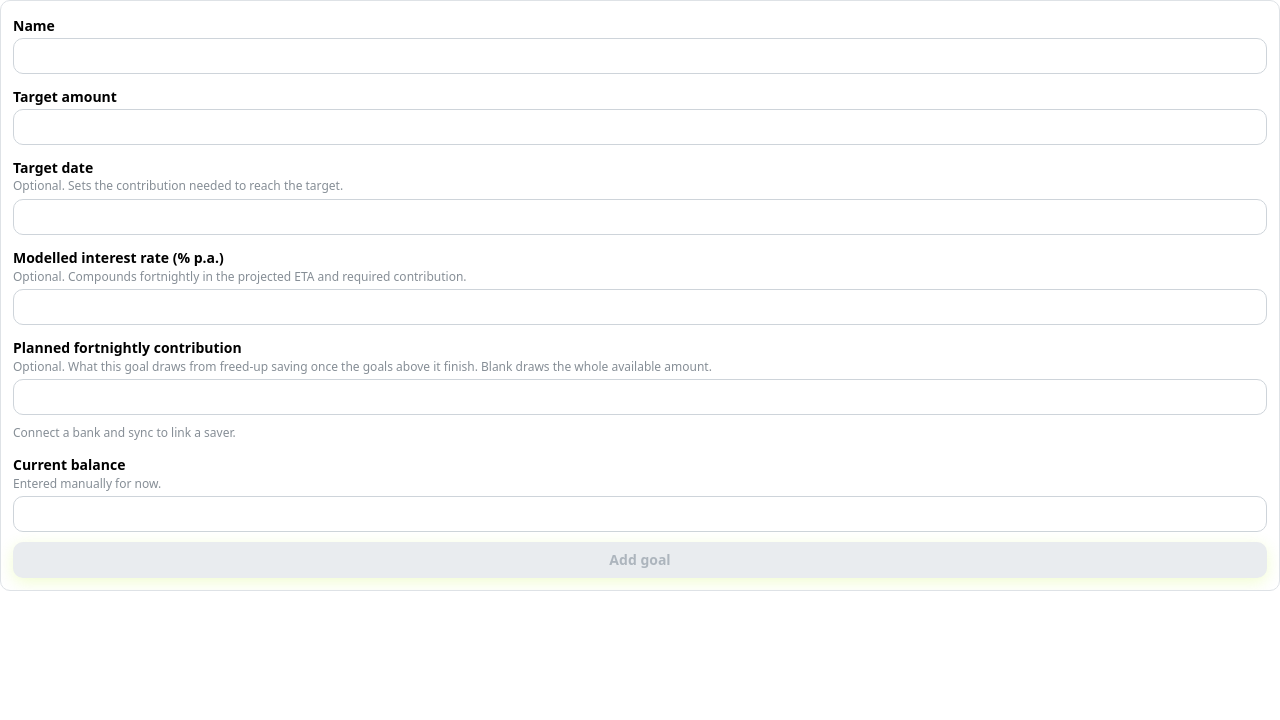
Test: GoalForm › disables submit until name and target amount are filled
This screenshot has width=1280, height=720.
Expected: the button "Add goal" is disabled, [13,542,1267,578]
Step 1. Type "Car" into the field labelled "Name" → (640, 56), box [13,38,1267,74]
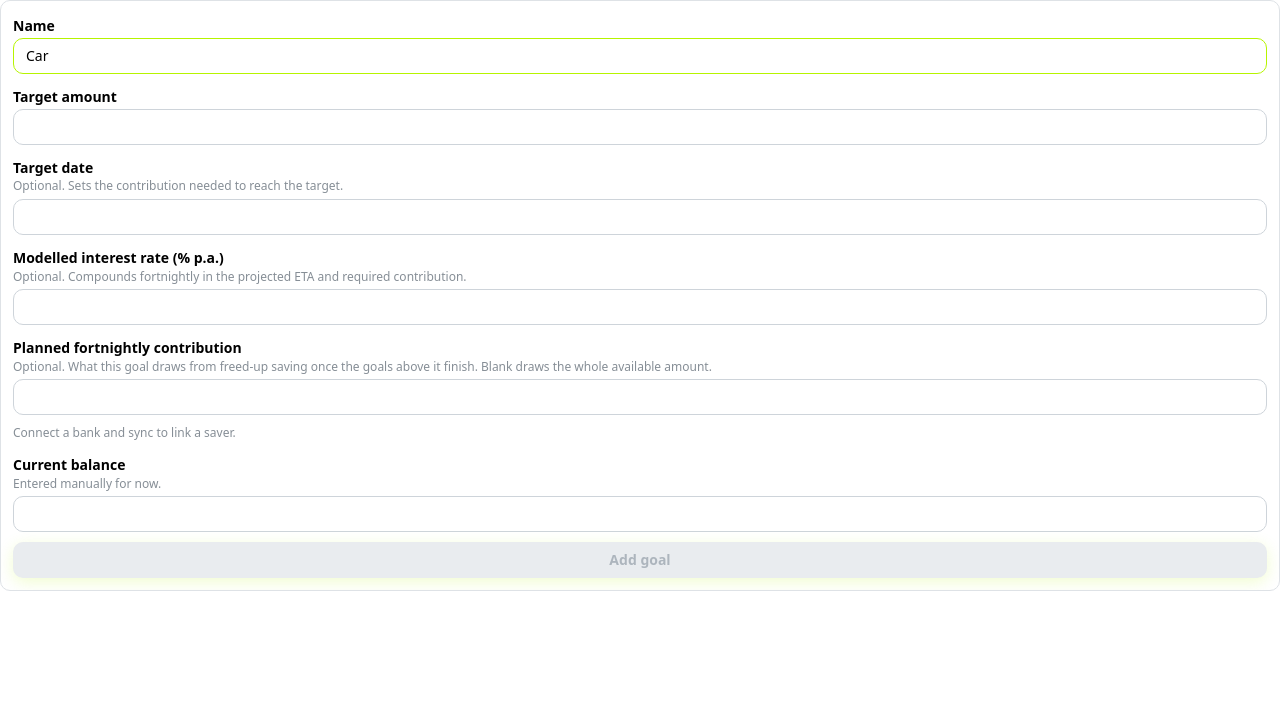
Expected: the button "Add goal" is disabled, [13,542,1267,578]
Step 2. Type "30000" into the field labelled "Target amount" → (640, 127), box [13,109,1267,145]
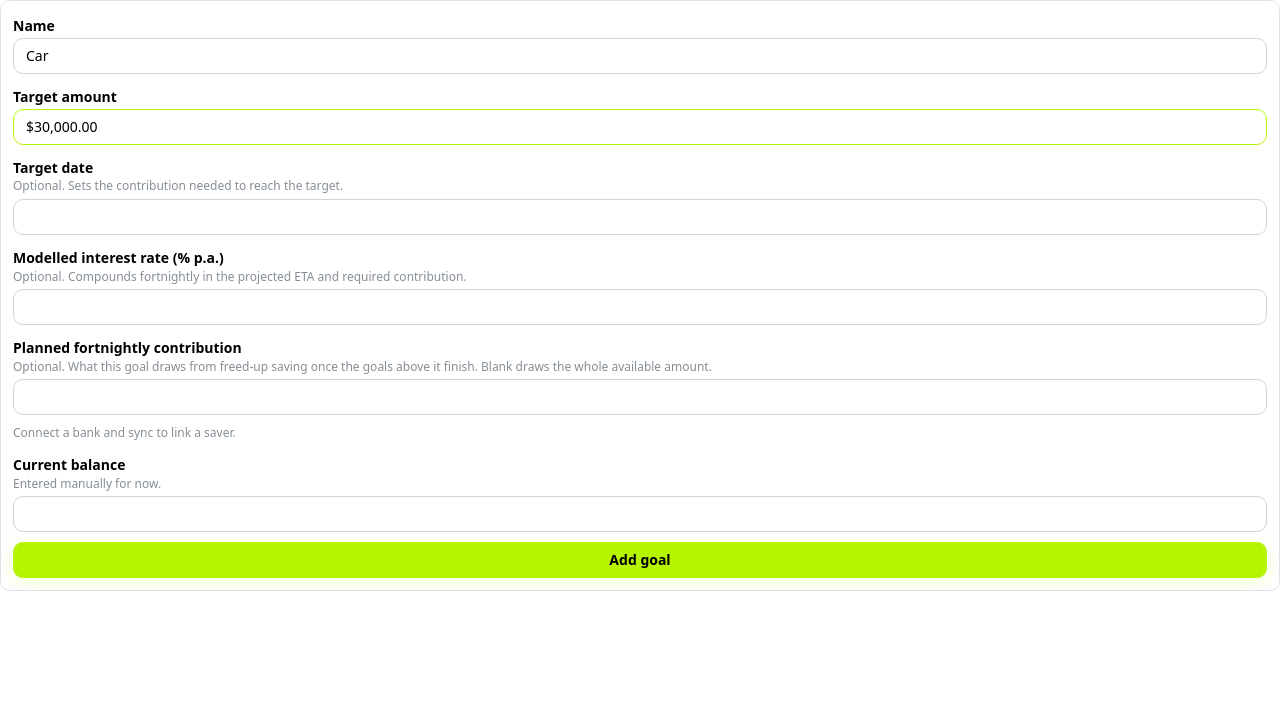
Expected: the button "Add goal" is enabled, [13,542,1267,578]
